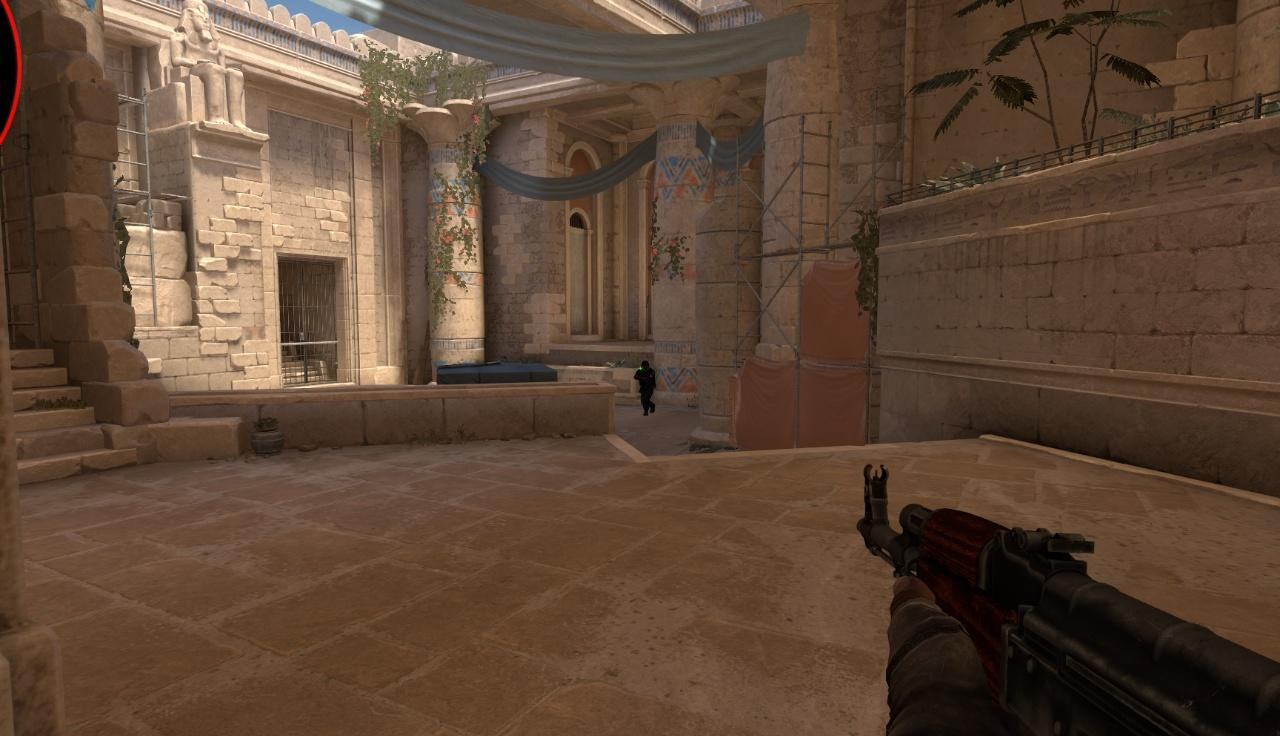ct: (634, 359, 656, 416)
cthead: (641, 360, 649, 371)
rifle: (842, 466, 1273, 732)
